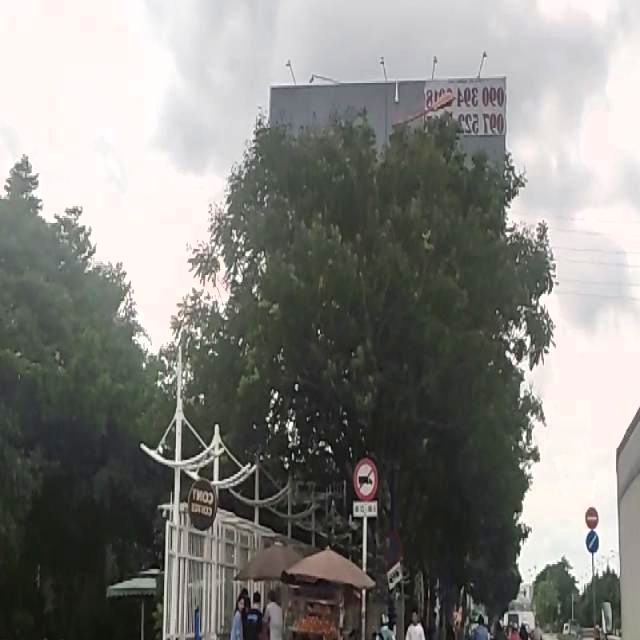B.8a: (350, 456, 378, 518)
